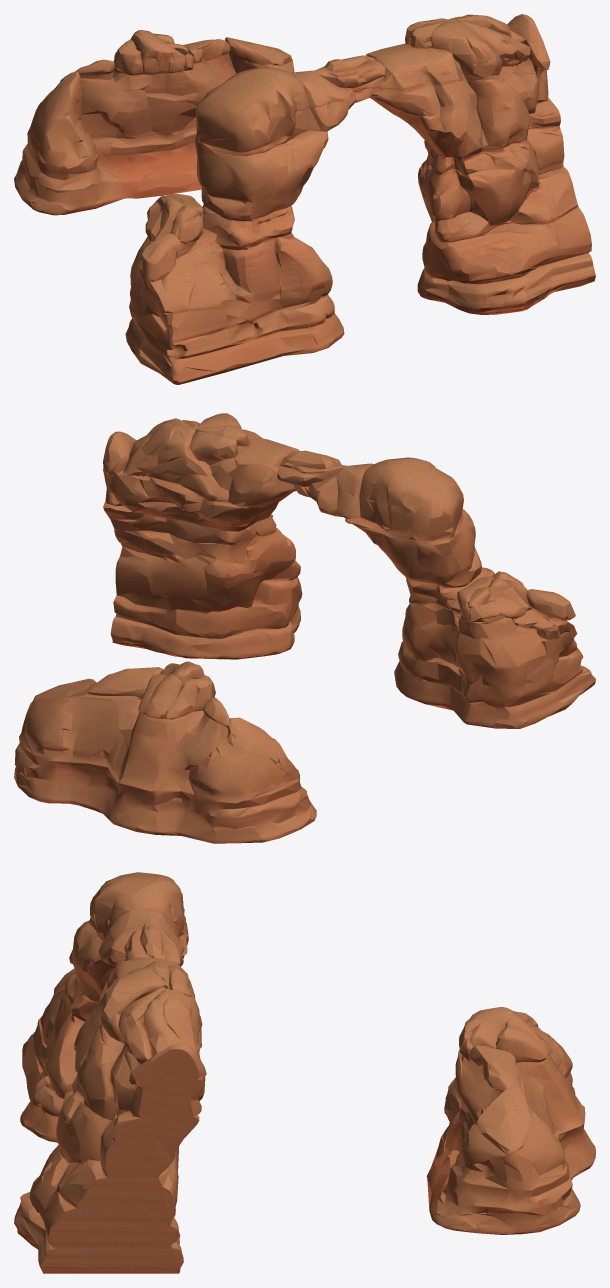
The model's file is lm_arch.glb.
3 views of the same model, one above another, from view 1: azimuth 30°, elevation 25°; view 2: azimuth 150°, elevation 25°; view 3: azimuth 270°, elevation 25° (orthographic). The views are drawn at different scales.
Size of the model in its own units: 1.69 by 0.9102 by 1.9.
Materials: 1 (1 with a texture image).
